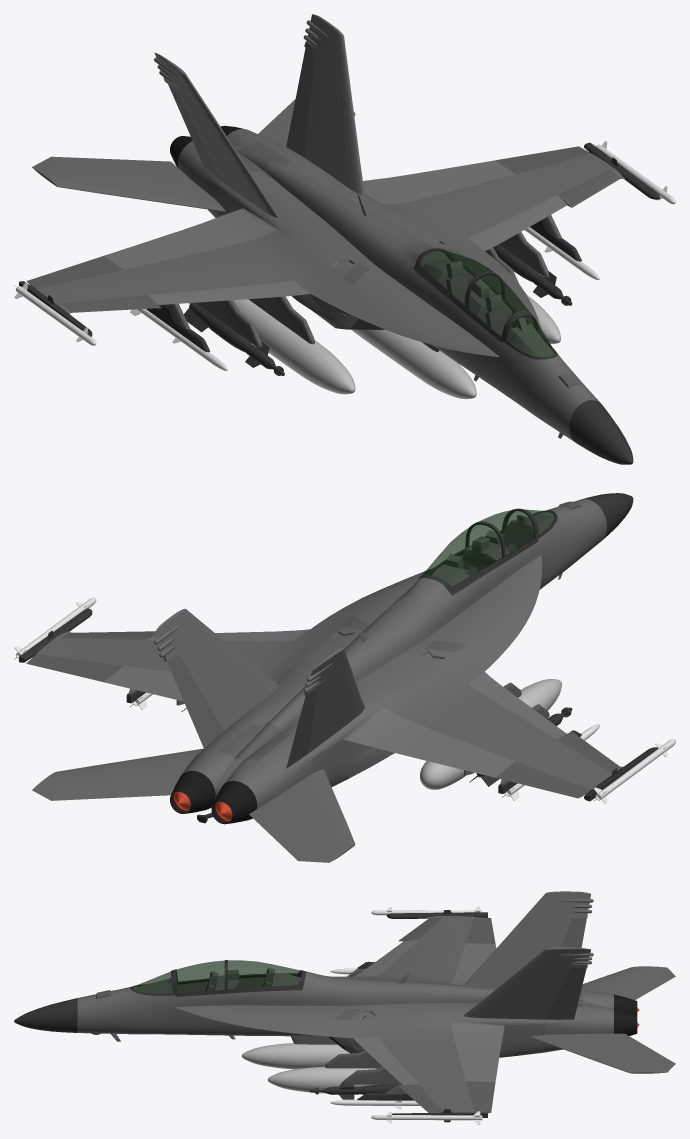
3 renders of one model, top to bottom at view 1: azimuth 30°, elevation 25°; view 2: azimuth 150°, elevation 25°; view 3: azimuth 270°, elevation 25°, orthographic. The views are drawn at different scales.
Parts seen in each view (by area): view 1: Fuselage, TailL, ElevatorR, TailR, CanopyGlass, FlapsR, TankWingR, TankCenter, FlapsL, Nose, WingFoldR, Furniture (+23 smaller); view 2: Fuselage, TailL, ElevatorR, ElevatorL, FlapsR, CanopyGlass, TailR, EngineNozzles, WingFoldR, Furniture, WingFoldL, IntakeR (+17 smaller); view 3: Fuselage, TailR, TailL, ElevatorL, CanopyGlass, FlapsL, TankCenter, ElevatorR, TankWingL, IntakeL, Nose, WingFoldL (+24 smaller).
Boxes of the visible parts, x1,y1,x2,y2 form: Fuselage: (124, 129, 600, 441); TailL: (286, 14, 364, 196); ElevatorR: (32, 156, 225, 211); TailR: (154, 52, 279, 217); CanopyGlass: (420, 250, 533, 336); FlapsR: (104, 209, 276, 269); TankWingR: (233, 299, 355, 394); TankCenter: (351, 329, 476, 399); FlapsL: (363, 160, 515, 204); Nose: (569, 400, 633, 464); WingFoldR: (36, 269, 157, 313); Furniture: (422, 260, 553, 357); Fuselage: (124, 499, 606, 819); TailL: (154, 608, 278, 748); ElevatorR: (249, 769, 355, 862); ElevatorL: (32, 748, 203, 800); FlapsR: (346, 707, 515, 777); CanopyGlass: (422, 509, 535, 586); TailR: (286, 647, 364, 768); EngineNozzles: (170, 770, 256, 824); WingFoldR: (516, 735, 623, 789); Furniture: (430, 514, 554, 586); WingFoldL: (36, 631, 154, 665); IntakeR: (312, 739, 394, 786); Fuselage: (77, 942, 613, 1081); TailR: (463, 891, 593, 986); TailL: (463, 947, 593, 1019); ElevatorL: (531, 1033, 675, 1073); CanopyGlass: (176, 960, 300, 993); FlapsL: (450, 1022, 504, 1082); TankCenter: (242, 1043, 350, 1069); ElevatorR: (581, 966, 675, 1000); TankWingL: (267, 1066, 377, 1093); IntakeL: (331, 1024, 545, 1057); Nose: (14, 998, 77, 1032); WingFoldL: (416, 1080, 474, 1112).
Bounding box in the file's own units: 1365 × 456 × 1828.
